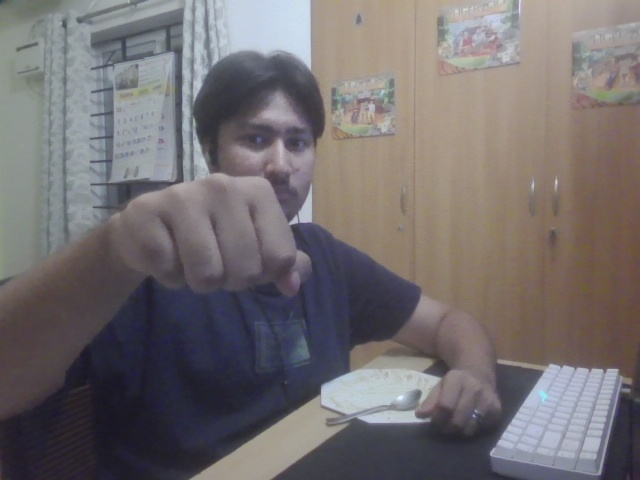yes: (106, 166, 310, 299)
